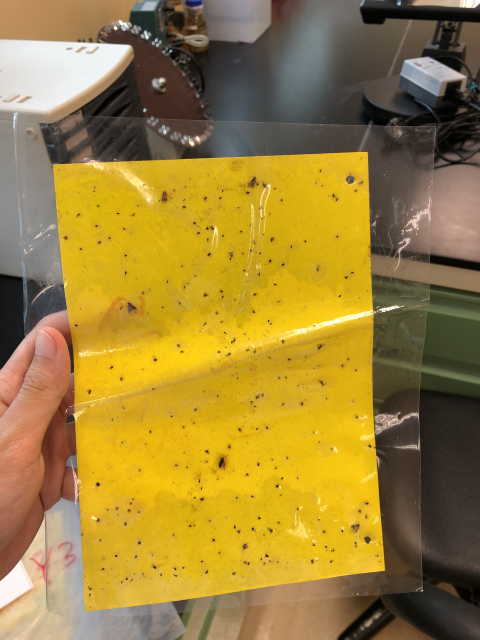DBM: (351, 522, 362, 534)
